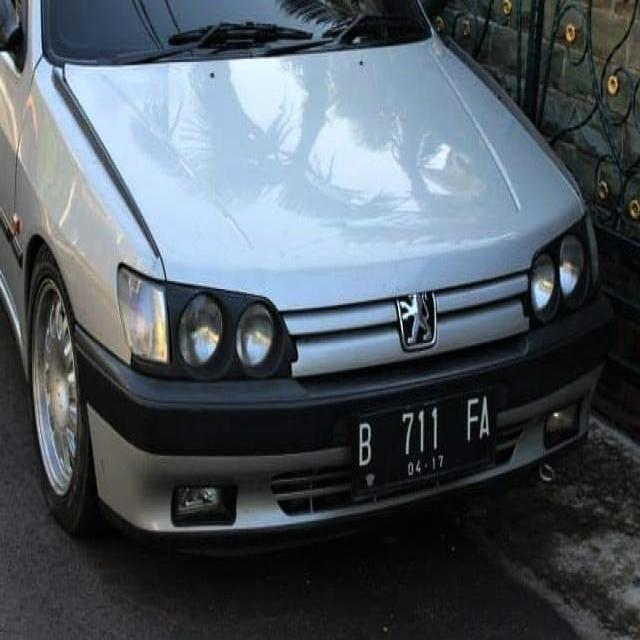plate: (346, 387, 502, 487)
